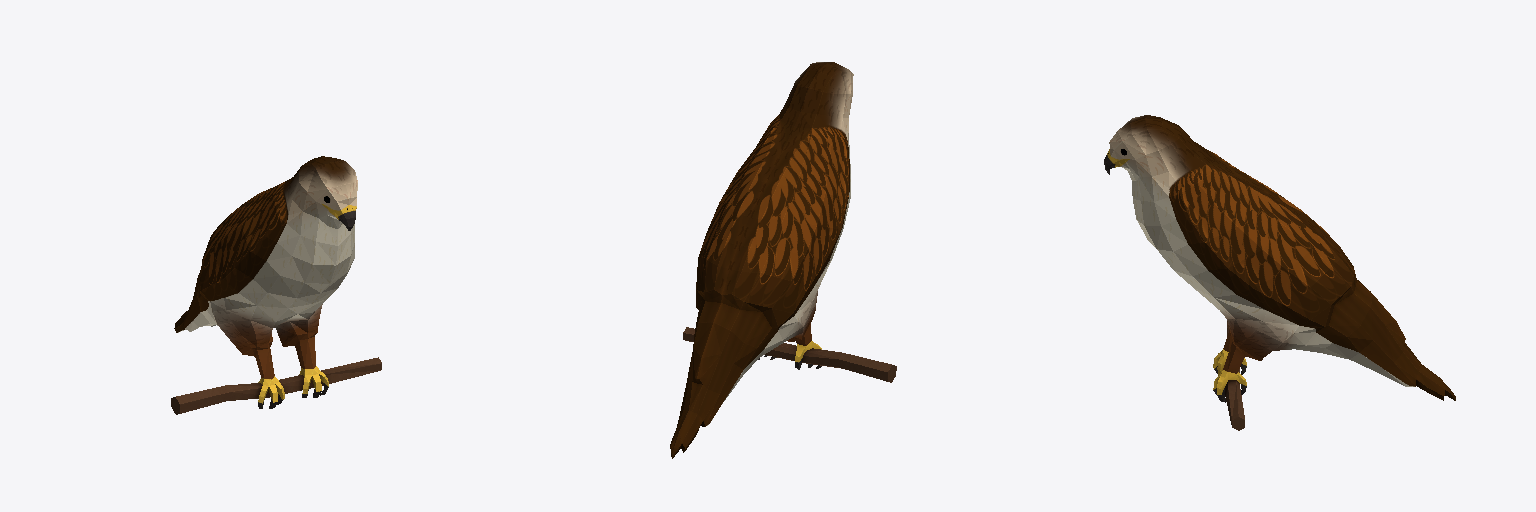
The picture shows the model from 3 angles: view 1: azimuth 30°, elevation 25°; view 2: azimuth 150°, elevation 25°; view 3: azimuth 270°, elevation 25°; orthographic projection.
Visible parts, largest first — view 1: FerruginousHawk_Mesh; view 2: FerruginousHawk_Mesh; view 3: FerruginousHawk_Mesh.
Boxes of the visible parts, x1=… form: FerruginousHawk_Mesh: x1=171, y1=156, x2=381, y2=414; FerruginousHawk_Mesh: x1=670, y1=62, x2=896, y2=458; FerruginousHawk_Mesh: x1=1104, y1=115, x2=1455, y2=430.
Size of the model in its own units: 2.54 by 3.35 by 3.77.
1 materials, 1 textured.